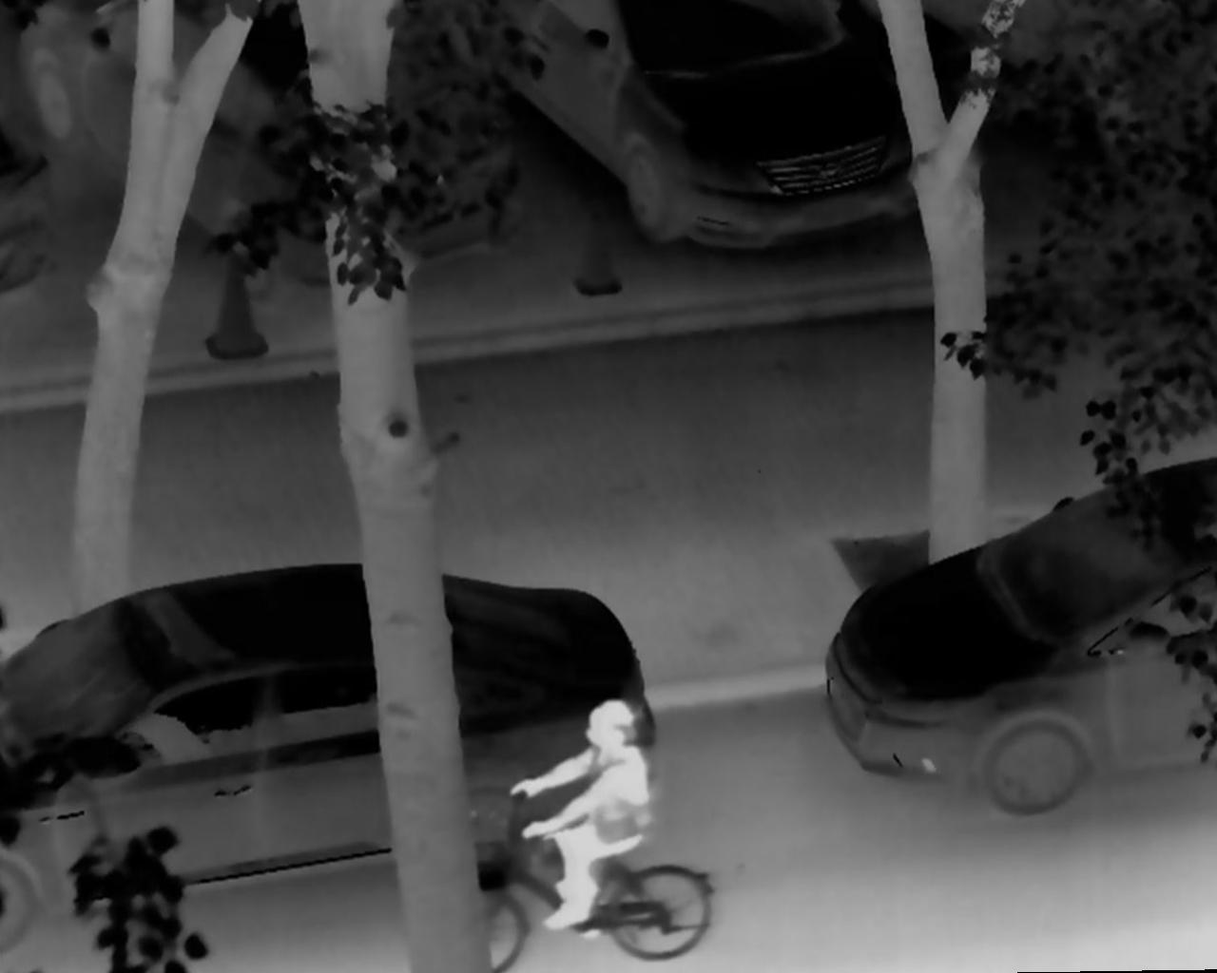person: (510, 699, 657, 938)
